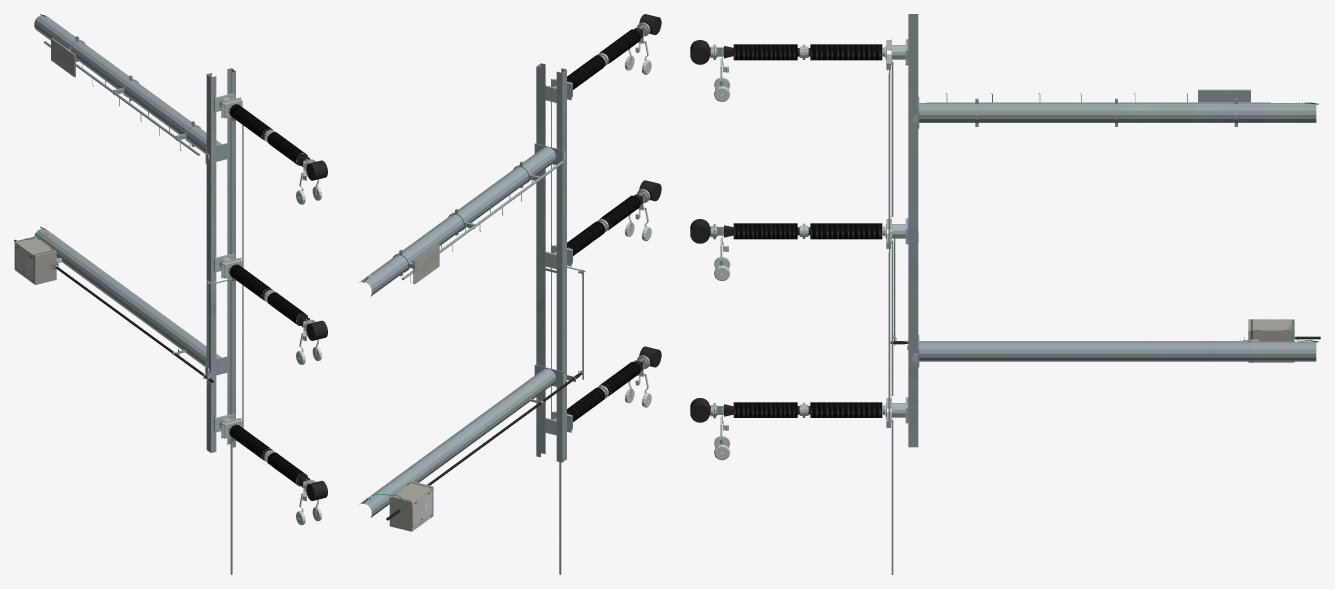
Rendered from glkg-11m00000000620231-geode.glb.
3 renders of one model, left to right at view 1: azimuth 30°, elevation 25°; view 2: azimuth 150°, elevation 25°; view 3: azimuth 270°, elevation 25°, orthographic. The views are drawn at different scales.
Parts seen in each view (by area): view 1: Node; view 2: Node; view 3: Node.
Boxes of the visible parts, left/top/right/bottom form: Node: left=14, top=14, right=327, bottom=574; Node: left=359, top=14, right=661, bottom=574; Node: left=690, top=14, right=1320, bottom=574.
Bounding box in the file's own units: 0.9742 × 9.26 × 9.56.
11 materials, 11 textured.
